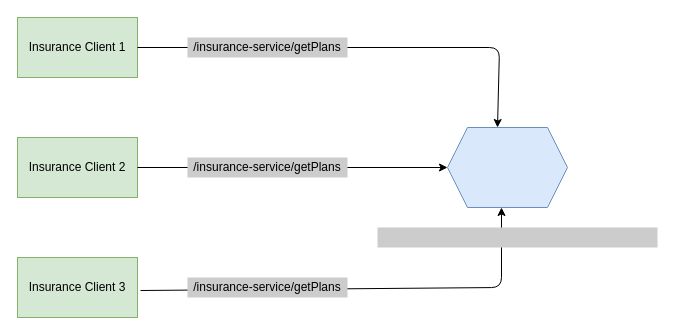
Some shapes in this 675 by 335 pixel diagram are drawn without their labels. The box of each missing label's shape, as (x1, y1, x2, y2) in pixels:
http://localhost:8080 /insurance-service /getPlans: (377, 227, 657, 247)
Insurance Provider: (446, 126, 568, 208)
